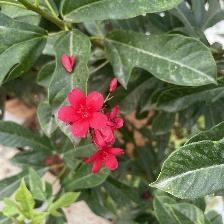jatropha: (61, 88, 111, 138)
